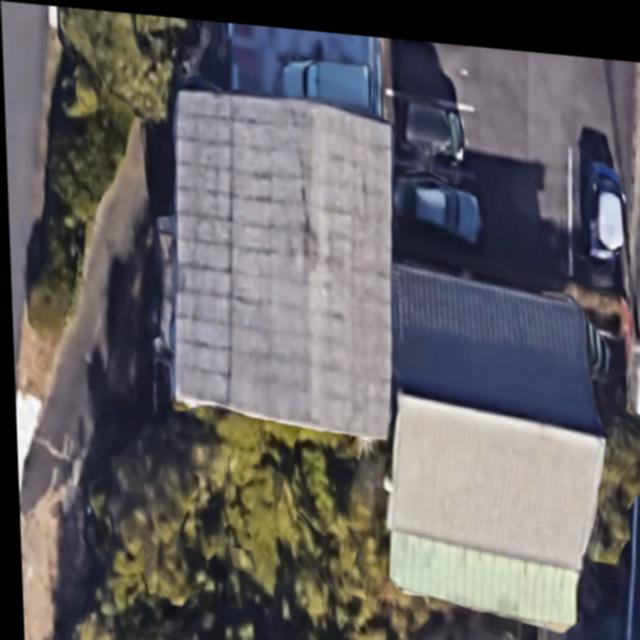Batiment: (383, 255, 601, 617), (171, 87, 390, 430)
